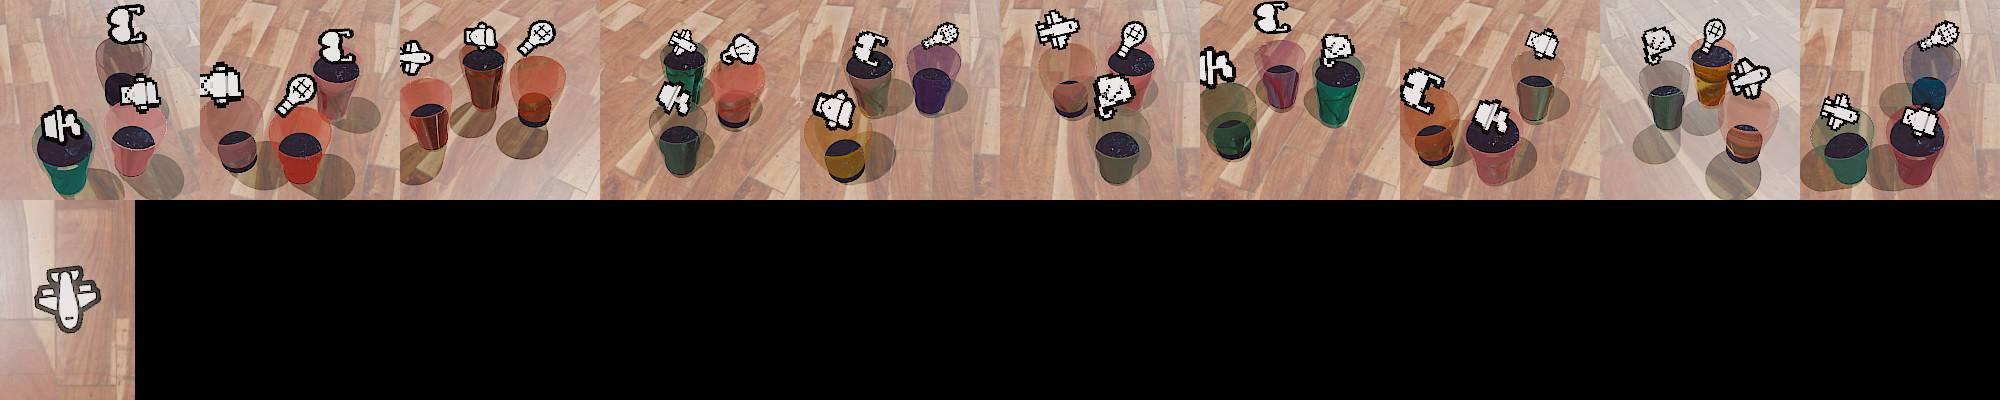icon: (31, 257, 112, 340), (198, 60, 245, 107), (273, 71, 318, 116), (1402, 66, 1444, 113), (38, 102, 87, 143), (1819, 90, 1862, 135), (1093, 73, 1134, 120), (812, 89, 855, 132), (1036, 9, 1080, 50), (1727, 57, 1770, 98), (119, 74, 163, 113), (106, 3, 147, 45), (1199, 45, 1237, 89), (654, 78, 693, 117), (517, 20, 556, 59), (1471, 98, 1511, 135), (851, 29, 889, 66), (318, 28, 356, 65), (1642, 25, 1677, 65), (1899, 104, 1941, 138), (1918, 18, 1960, 51), (721, 32, 760, 66), (1253, 0, 1292, 34), (1114, 19, 1148, 59), (1524, 27, 1561, 61), (398, 39, 432, 75), (1320, 32, 1356, 65), (463, 20, 500, 51), (921, 20, 959, 50), (668, 28, 699, 59), (1700, 18, 1726, 52)
